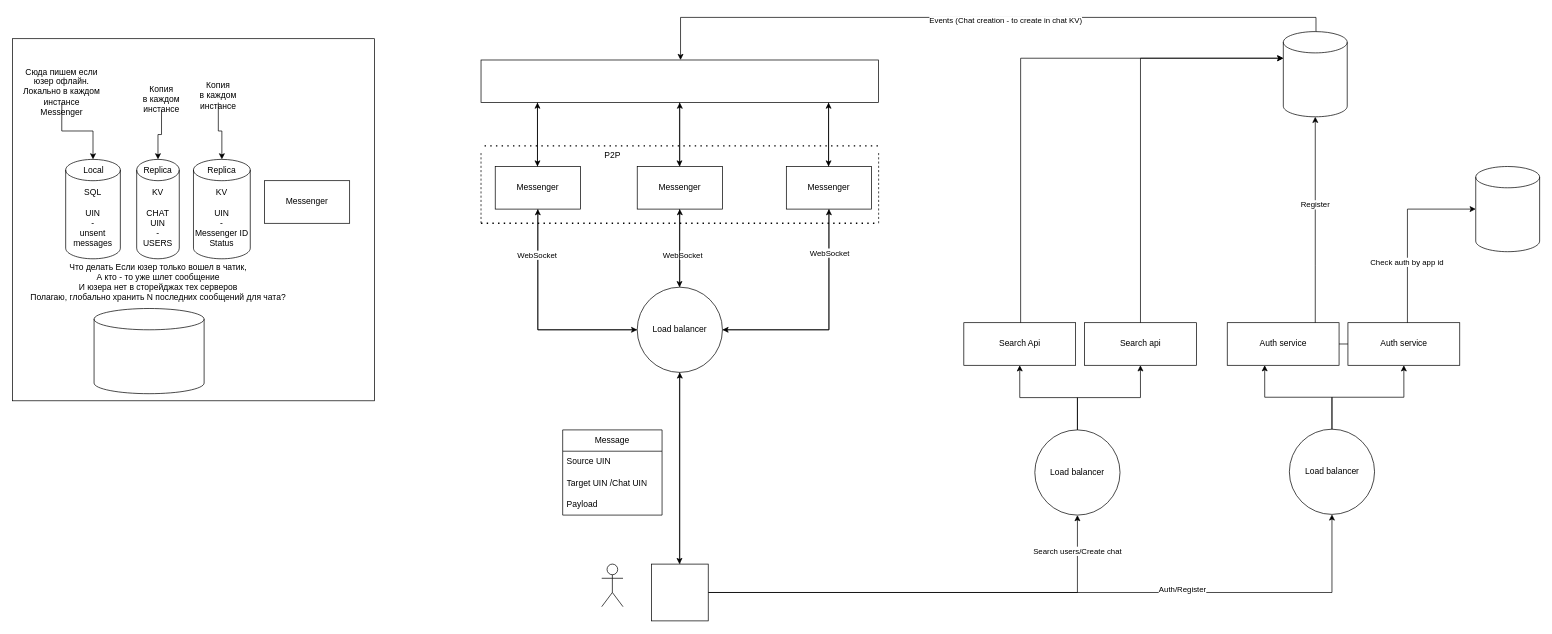
Some shapes in this 1552 by 634 pixel diagram are drawn without their labels. The shapes that lost their labels are listed below. From the top down, each one's centre as x and y in pixels, then its label:
point (679, 81): Broker for broadcasting events (new UIN/ chat member updates e.t.c.)
point (1315, 74): Postgres User Data
point (1507, 209): Redis Opened Sessions
point (148, 351): SQL CHAT UIN - MESSAGES FOR LAST 5 MINUTES
point (612, 585): Actor
point (679, 592): Client
